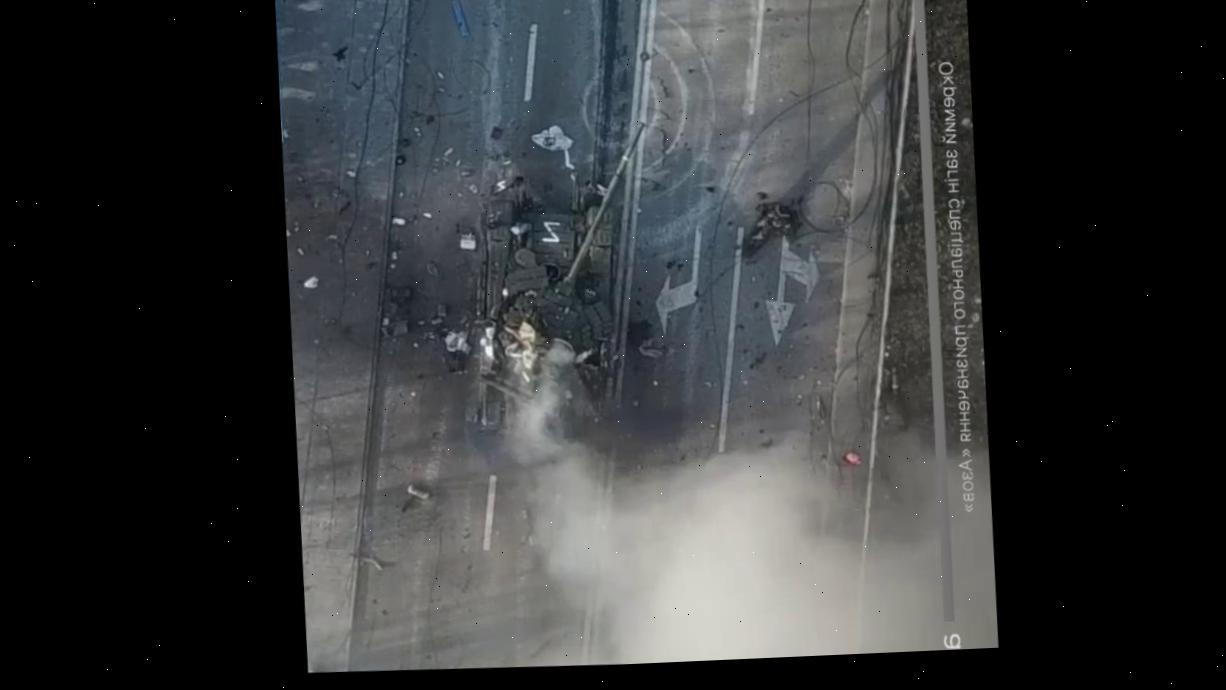tank: (448, 113, 670, 456)
